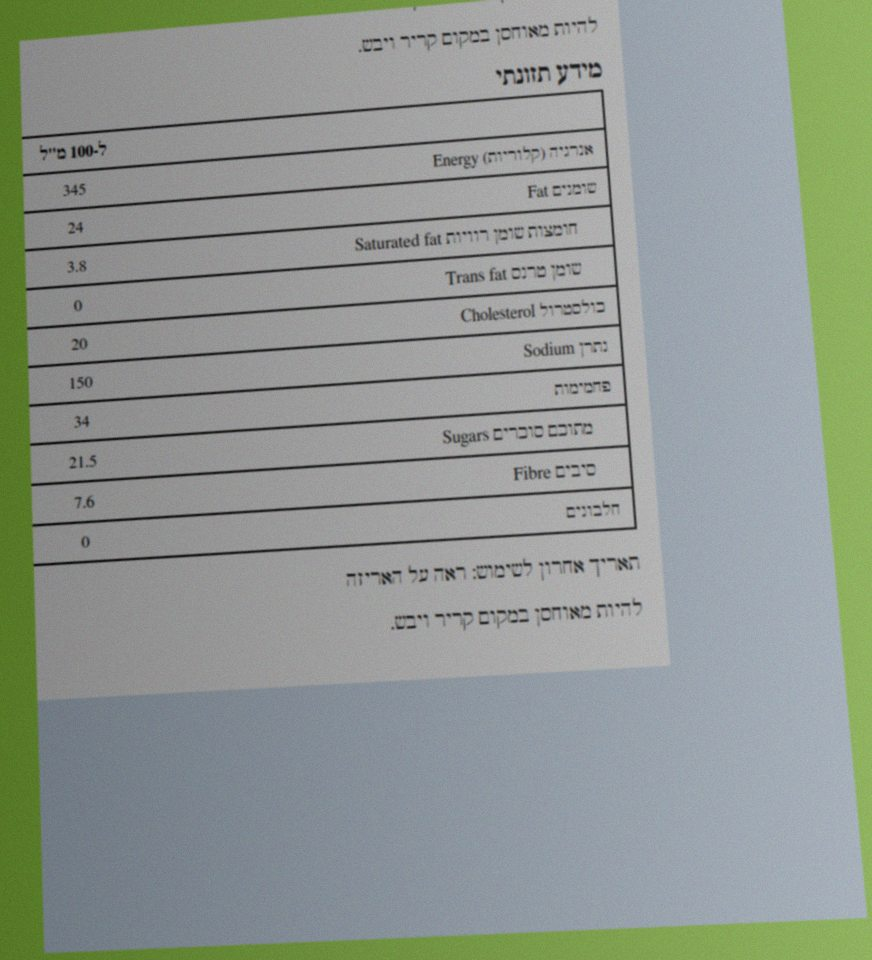carbs: (71, 410, 92, 433)
energy: (60, 178, 89, 201)
fat: (65, 216, 86, 239)
protein: (79, 531, 92, 553)
